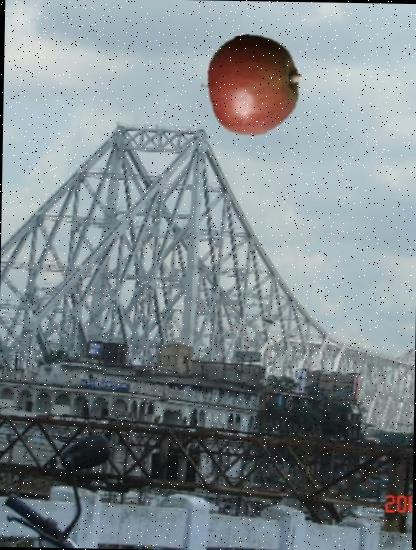Apple: (200, 32, 304, 136)
